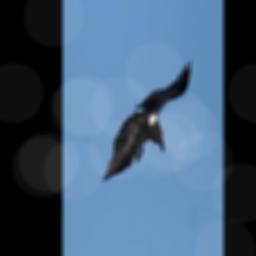Crow: (100, 56, 192, 181)
